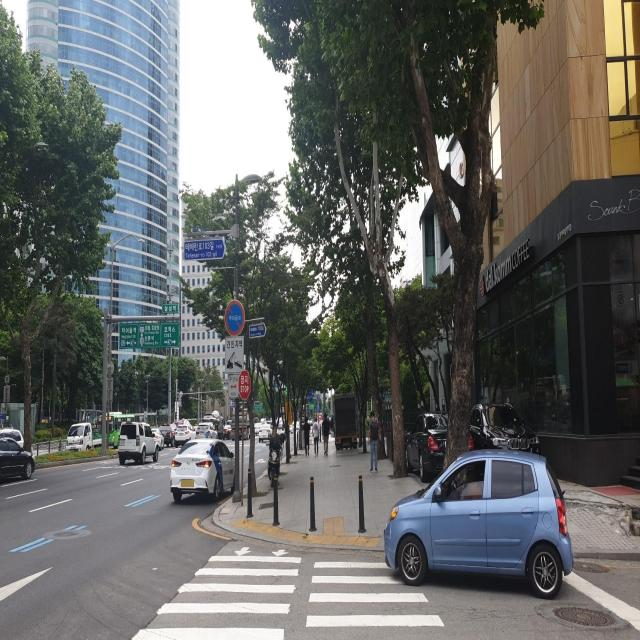횡단보도: (129, 544, 447, 640)
